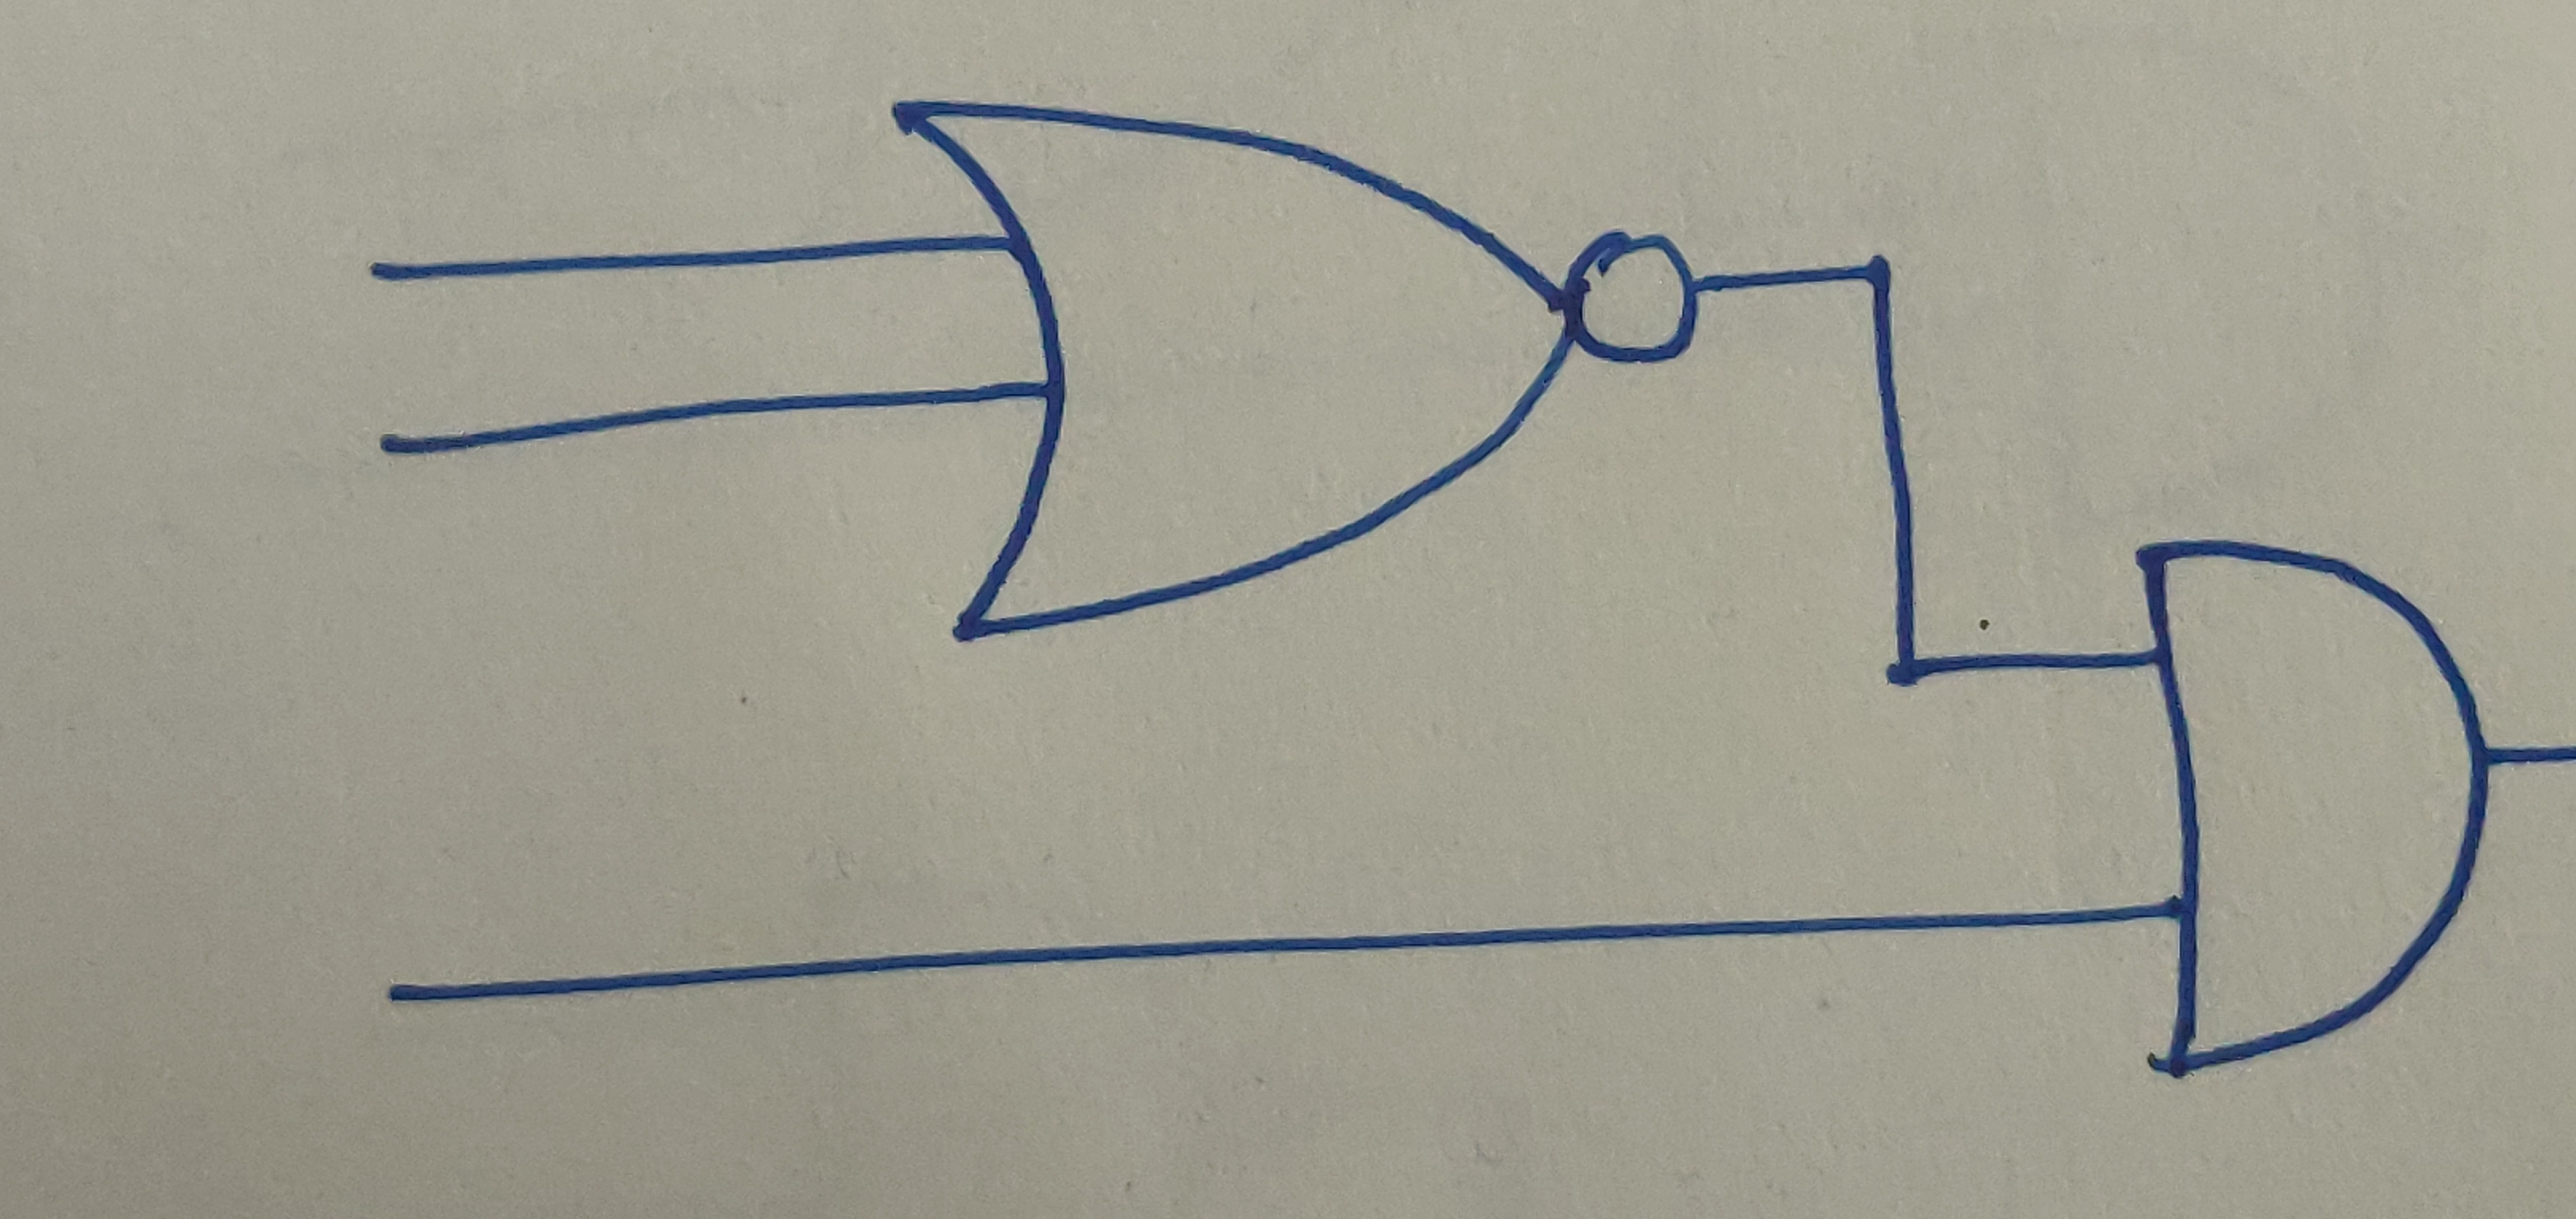and: (2127, 534, 2497, 1094)
not: (1567, 223, 1705, 368)
or: (876, 92, 1584, 642)
